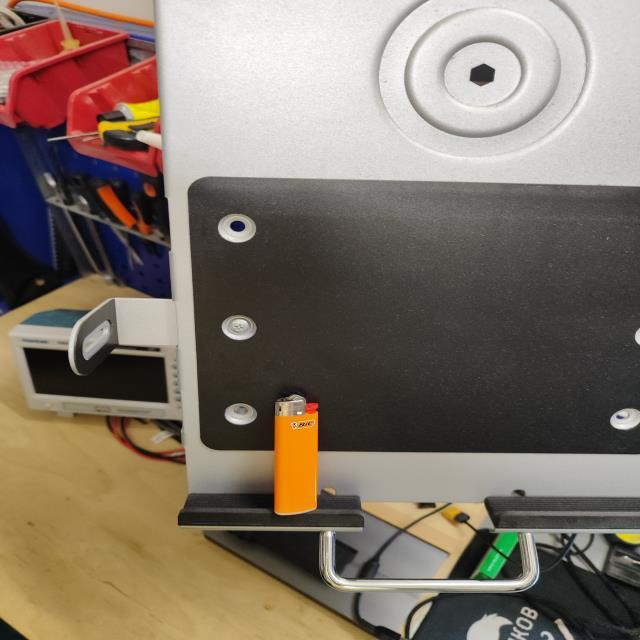lighter: (274, 396, 318, 515)
